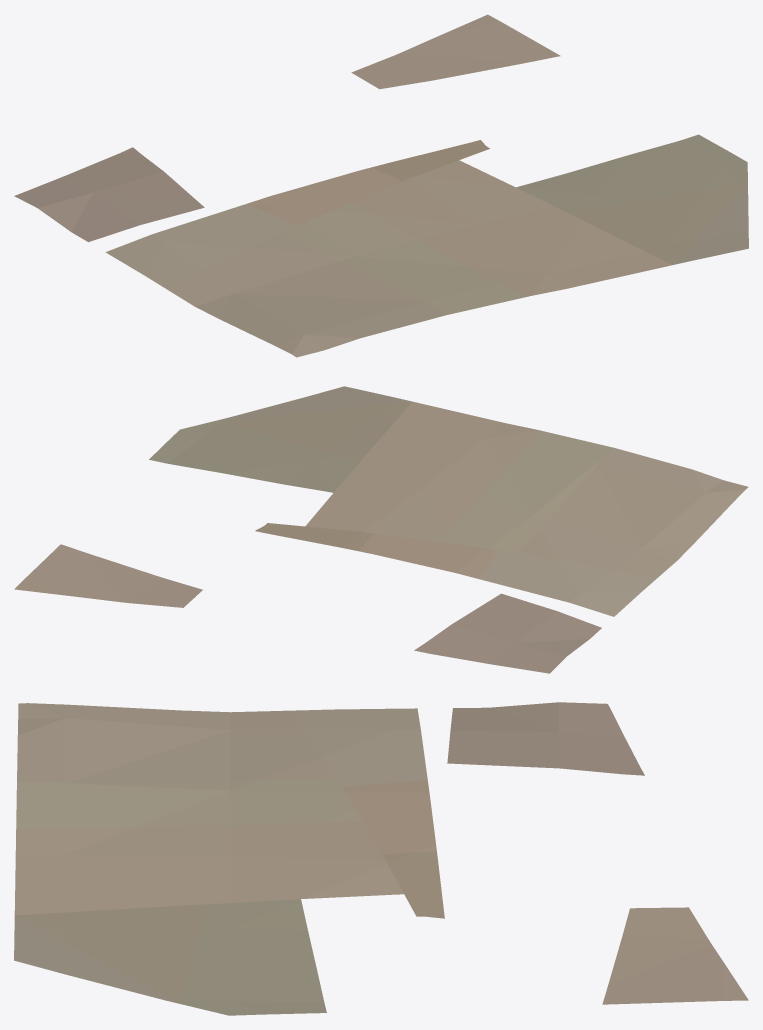
The model's file is farm_19_13_soil.glb.
The picture shows the model from 3 angles, top to bottom: view 1: azimuth 30°, elevation 25°; view 2: azimuth 150°, elevation 25°; view 3: azimuth 270°, elevation 25°; orthographic projection. The views are drawn at different scales.
Parts seen in each view (by area): view 1: geometry_0; view 2: geometry_0; view 3: geometry_0.
Part boxes in pixels (<box>): geometry_0: <box>14,14,748,357</box>; geometry_0: <box>14,386,748,673</box>; geometry_0: <box>14,702,748,1015</box>.
Size of the model in its own units: 376 by 13.79 by 358.
